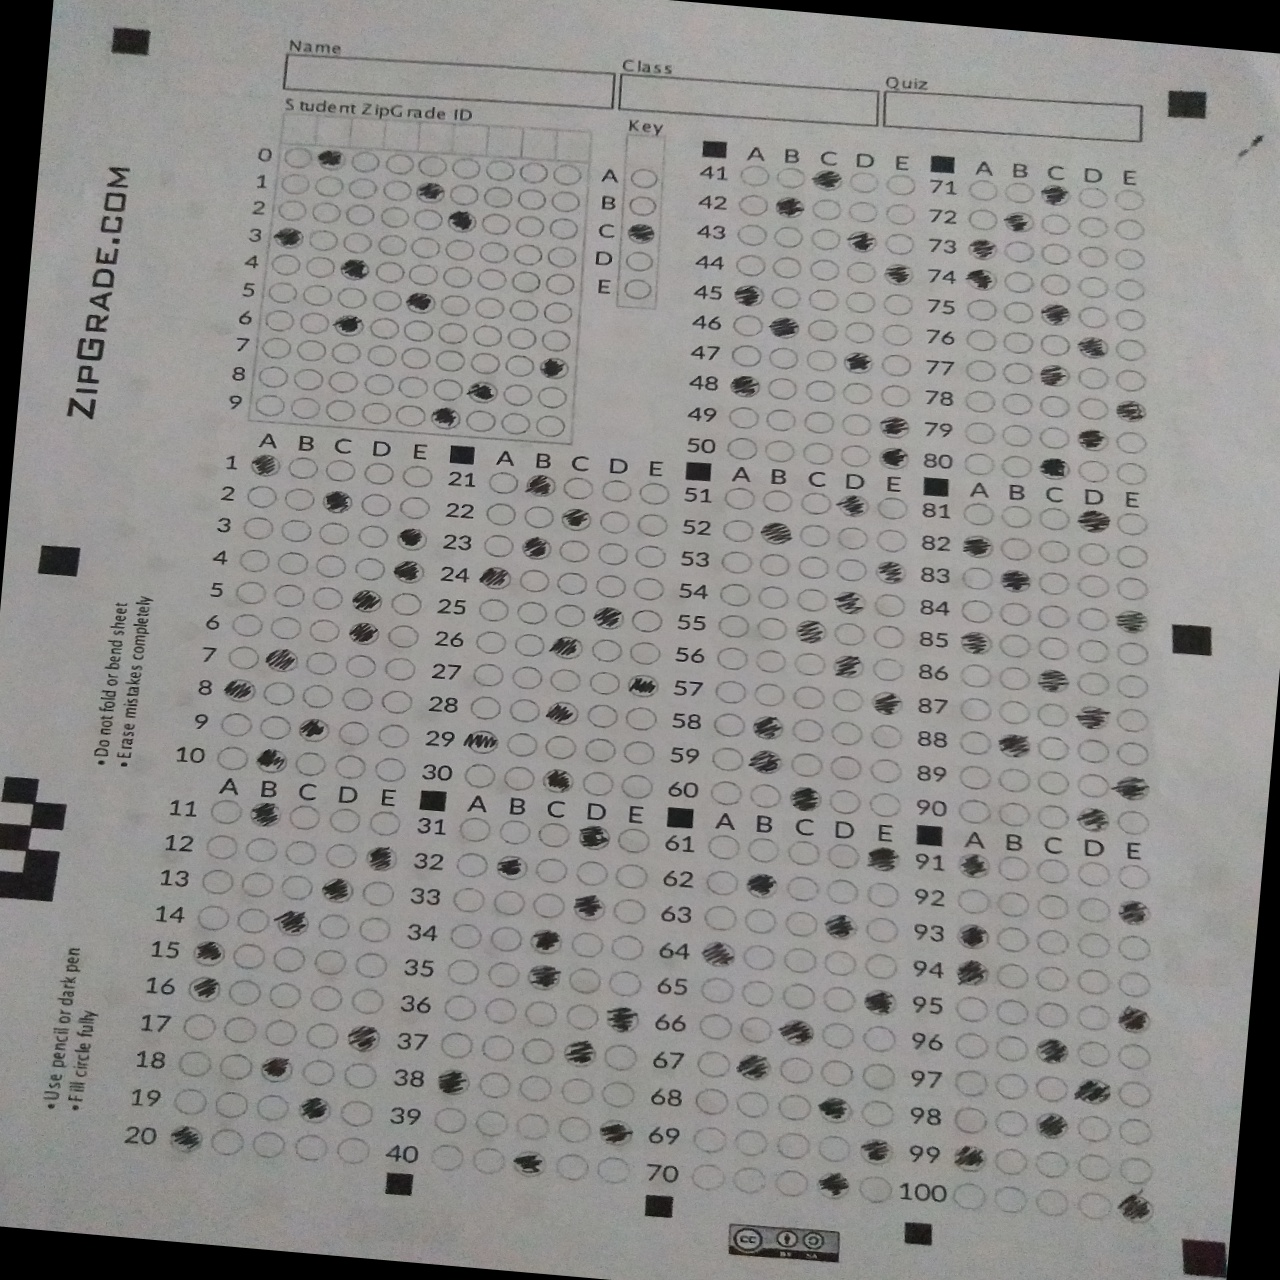not-c: (951, 563, 995, 595), (173, 1047, 218, 1080), (685, 1122, 729, 1155), (817, 1019, 862, 1051), (813, 1132, 859, 1164), (733, 1014, 778, 1046), (951, 659, 994, 692), (1032, 801, 1075, 833), (552, 1114, 595, 1146), (568, 931, 612, 964), (696, 903, 740, 935), (951, 595, 995, 627), (951, 762, 995, 794), (177, 1008, 222, 1040), (190, 903, 234, 934), (198, 830, 243, 862), (205, 796, 250, 828), (442, 920, 486, 952), (599, 1041, 644, 1073), (595, 1078, 640, 1110), (549, 1151, 593, 1183), (572, 859, 617, 891), (605, 969, 649, 1001), (692, 1010, 736, 1042), (816, 1056, 860, 1088), (783, 837, 828, 869), (779, 907, 824, 939), (781, 872, 825, 904), (741, 905, 785, 937), (738, 942, 783, 974), (731, 980, 776, 1012), (728, 1089, 772, 1121), (554, 1076, 600, 1107), (610, 899, 655, 930), (771, 1131, 817, 1162), (779, 947, 825, 978), (1071, 1037, 1114, 1070), (948, 727, 992, 758), (948, 796, 992, 828), (1069, 769, 1112, 801), (195, 865, 238, 897), (205, 1128, 248, 1159), (222, 1013, 265, 1044), (470, 1107, 513, 1138), (595, 1155, 639, 1186), (615, 862, 659, 893), (690, 1049, 734, 1081), (695, 869, 738, 900), (771, 1090, 815, 1122), (743, 837, 787, 869), (1069, 735, 1114, 765), (231, 906, 275, 937), (237, 835, 281, 865), (245, 1130, 290, 1160), (474, 1070, 518, 1101), (447, 887, 491, 918), (563, 967, 607, 998), (610, 933, 654, 964), (613, 825, 658, 856), (726, 1126, 770, 1157), (775, 1055, 819, 1085), (777, 983, 822, 1014), (1114, 1115, 1155, 1148), (1074, 1001, 1115, 1034), (1114, 863, 1155, 896), (949, 692, 992, 723), (321, 840, 363, 872), (271, 944, 313, 975), (333, 1136, 375, 1167), (520, 998, 563, 1029), (1073, 1110, 1115, 1142), (1030, 1073, 1073, 1104), (1114, 1041, 1156, 1073), (1117, 1078, 1159, 1110), (990, 798, 1034, 829), (166, 1085, 210, 1116), (532, 857, 576, 887), (223, 976, 266, 1007), (311, 911, 354, 941), (312, 947, 355, 978), (306, 983, 349, 1014), (248, 1092, 292, 1123), (258, 1017, 301, 1048), (264, 981, 307, 1012), (273, 874, 316, 905), (282, 801, 326, 831), (334, 1097, 377, 1128), (338, 1061, 381, 1091), (348, 987, 392, 1017), (477, 994, 520, 1024), (366, 809, 409, 839), (527, 892, 571, 922), (477, 1034, 520, 1064), (484, 922, 527, 953), (454, 813, 497, 844), (560, 1005, 604, 1035), (685, 1084, 728, 1115), (692, 974, 735, 1005), (704, 833, 748, 864), (1032, 1150, 1073, 1182), (1032, 964, 1073, 995), (1074, 966, 1115, 998), (1073, 897, 1114, 928), (787, 749, 829, 779), (703, 742, 745, 772), (579, 733, 621, 763), (233, 870, 275, 900), (229, 942, 271, 973), (297, 1021, 339, 1051), (279, 837, 321, 867), (438, 993, 481, 1023), (350, 949, 393, 980), (356, 878, 399, 908), (515, 1074, 557, 1104), (485, 890, 527, 920), (495, 817, 537, 847), (452, 849, 495, 879), (953, 499, 996, 529), (309, 583, 353, 612), (457, 761, 501, 790), (290, 1133, 333, 1163), (434, 1030, 477, 1060), (425, 1145, 469, 1175), (717, 482, 758, 512), (636, 511, 678, 542), (635, 544, 676, 574), (554, 568, 595, 599), (324, 804, 365, 835), (440, 956, 481, 987), (481, 960, 522, 990), (1032, 930, 1073, 960), (1071, 1152, 1112, 1183), (1037, 1001, 1078, 1032), (1115, 1153, 1156, 1184), (1073, 930, 1114, 960), (1073, 860, 1114, 891), (1115, 934, 1156, 965), (1114, 971, 1155, 1001), (1036, 568, 1078, 598), (993, 696, 1035, 726), (994, 535, 1036, 564), (1033, 538, 1075, 567), (796, 522, 838, 551), (716, 515, 758, 544), (830, 556, 872, 585), (341, 652, 383, 681), (374, 723, 416, 753), (361, 461, 403, 490), (305, 617, 347, 646), (311, 553, 353, 583), (259, 678, 301, 707), (209, 743, 251, 772), (499, 729, 542, 758), (472, 530, 515, 559), (211, 1091, 253, 1121), (215, 1051, 257, 1081), (297, 1058, 339, 1088), (428, 1107, 470, 1136), (515, 1036, 557, 1065), (512, 1112, 554, 1142), (467, 1145, 509, 1175), (536, 821, 578, 850), (862, 915, 901, 946), (686, 1160, 726, 1191), (990, 1185, 1030, 1216), (1033, 857, 1073, 887), (872, 592, 913, 621), (993, 765, 1034, 795), (996, 629, 1037, 659), (792, 585, 833, 614), (795, 552, 836, 581), (798, 489, 839, 518), (758, 488, 799, 517), (704, 712, 745, 741), (712, 644, 753, 673), (835, 525, 876, 554), (828, 719, 869, 748), (867, 721, 908, 750), (372, 755, 413, 784), (396, 495, 437, 524), (356, 489, 397, 518), (291, 749, 332, 778), (279, 517, 320, 546), (225, 578, 266, 607), (498, 764, 539, 794), (629, 607, 670, 636), (578, 770, 619, 799), (553, 538, 594, 567), (990, 1073, 1032, 1102), (870, 529, 912, 557), (1036, 634, 1078, 662), (1073, 667, 1115, 695), (1033, 769, 1075, 797), (993, 663, 1035, 692), (993, 599, 1035, 627), (1033, 601, 1075, 629), (829, 621, 871, 649), (789, 717, 831, 745), (755, 551, 797, 579), (709, 678, 751, 706), (713, 549, 755, 577), (869, 656, 911, 685), (826, 788, 869, 816), (331, 753, 373, 781), (386, 621, 428, 649), (353, 520, 395, 549), (403, 463, 445, 491), (272, 550, 314, 578), (215, 712, 257, 740), (239, 516, 281, 544), (545, 663, 587, 692), (506, 629, 549, 658), (509, 598, 551, 626), (598, 478, 640, 506), (518, 503, 560, 531), (627, 640, 669, 668), (631, 574, 673, 602), (1075, 1191, 1114, 1221), (1033, 892, 1071, 922), (992, 1108, 1030, 1138), (993, 1034, 1032, 1064), (481, 468, 520, 497), (1032, 1189, 1071, 1218), (994, 855, 1034, 884), (869, 622, 910, 651), (870, 496, 911, 524), (1034, 702, 1075, 730), (1033, 733, 1074, 761), (791, 683, 832, 712), (787, 651, 828, 679), (753, 585, 794, 613), (750, 647, 791, 675), (748, 680, 789, 708), (745, 779, 787, 808), (702, 778, 743, 806), (710, 610, 751, 638), (715, 579, 756, 607), (829, 686, 870, 714), (828, 754, 869, 782), (336, 719, 377, 747), (380, 688, 421, 716), (383, 656, 424, 685), (353, 554, 394, 583), (384, 590, 425, 618), (302, 648, 343, 676), (316, 520, 358, 549), (322, 456, 363, 484), (278, 486, 319, 515), (279, 456, 320, 484), (268, 584, 309, 612), (266, 615, 307, 644), (256, 715, 297, 743), (218, 644, 259, 672), (226, 612, 267, 640), (232, 547, 273, 576), (238, 483, 279, 511), (339, 686, 380, 714), (542, 733, 583, 761), (504, 695, 545, 723), (509, 663, 550, 692), (515, 567, 556, 595), (633, 481, 674, 509), (561, 476, 602, 504), (465, 661, 506, 689), (467, 629, 508, 658), (469, 597, 510, 625), (481, 501, 522, 529), (587, 638, 628, 666), (586, 670, 627, 699), (621, 775, 662, 803), (627, 703, 668, 731), (595, 542, 636, 570), (583, 701, 624, 729), (549, 601, 590, 629), (826, 877, 864, 907), (860, 1062, 898, 1092), (995, 998, 1033, 1028), (1074, 636, 1116, 663), (300, 685, 342, 712), (618, 738, 660, 765), (821, 985, 859, 1014), (862, 952, 900, 981), (860, 881, 899, 911), (859, 1099, 898, 1129), (856, 1173, 894, 1203), (952, 1105, 990, 1135), (955, 886, 994, 915), (993, 961, 1032, 990), (992, 924, 1030, 953), (993, 890, 1032, 919), (869, 756, 908, 784), (869, 791, 908, 819), (821, 949, 860, 978), (751, 617, 792, 644), (465, 692, 506, 719), (592, 576, 633, 602), (595, 508, 636, 535), (825, 843, 863, 872), (730, 1166, 768, 1196), (771, 1167, 809, 1197), (949, 1182, 987, 1211), (953, 1067, 990, 1096), (953, 1032, 990, 1061), (994, 1148, 1032, 1177), (952, 996, 990, 1024), (859, 1023, 897, 1051), (358, 914, 393, 944), (467, 350, 504, 377), (1075, 304, 1112, 331), (347, 149, 383, 176), (309, 173, 346, 200), (375, 203, 411, 230), (341, 202, 377, 229), (311, 173, 347, 200), (367, 287, 403, 314), (408, 234, 444, 261), (461, 408, 497, 435), (429, 377, 465, 404), (399, 316, 435, 343), (358, 399, 394, 425), (510, 268, 546, 295), (510, 241, 546, 268), (799, 409, 836, 436), (802, 377, 838, 404), (804, 316, 840, 343), (809, 225, 845, 252), (809, 197, 845, 224), (731, 222, 768, 248), (625, 165, 661, 192), (617, 277, 653, 304), (1001, 270, 1037, 297), (1039, 241, 1075, 268), (1036, 392, 1073, 418), (1115, 429, 1151, 456), (392, 402, 429, 428), (1074, 574, 1111, 600), (546, 215, 581, 241), (256, 365, 291, 392), (295, 311, 331, 338), (445, 181, 481, 207), (533, 413, 568, 440), (998, 503, 1033, 530), (839, 411, 874, 438), (964, 358, 999, 384), (1078, 365, 1114, 392), (1114, 459, 1149, 486), (1114, 338, 1149, 365), (1114, 275, 1149, 302), (1112, 244, 1148, 271), (1114, 216, 1149, 243), (1112, 576, 1148, 602), (515, 159, 551, 185), (382, 151, 418, 177), (280, 144, 316, 170), (549, 162, 585, 188), (274, 172, 311, 198), (252, 392, 288, 417), (301, 282, 338, 308), (260, 336, 297, 362), (260, 309, 297, 335), (264, 279, 300, 305), (267, 251, 304, 277), (306, 199, 342, 225), (271, 197, 307, 223), (373, 232, 409, 258), (325, 370, 361, 396), (333, 285, 369, 311), (324, 397, 360, 423), (290, 367, 326, 393), (293, 339, 329, 365), (299, 282, 335, 308), (441, 266, 477, 292), (476, 240, 512, 266), (482, 186, 518, 212), (441, 238, 477, 264), (406, 263, 442, 288), (502, 354, 538, 380), (505, 326, 542, 352), (539, 327, 576, 353), (537, 299, 573, 325), (508, 297, 544, 322), (469, 325, 505, 350), (470, 295, 506, 321), (435, 320, 471, 346), (437, 293, 474, 319), (400, 343, 436, 369), (394, 373, 430, 399), (359, 372, 395, 397), (365, 341, 401, 367), (366, 315, 402, 341), (542, 271, 578, 297), (549, 191, 585, 217), (512, 188, 549, 213), (474, 268, 510, 294), (537, 384, 573, 410), (496, 410, 532, 436), (881, 232, 918, 258), (842, 291, 878, 316), (878, 353, 914, 379), (877, 383, 913, 409), (838, 444, 874, 470), (798, 438, 835, 464), (838, 380, 874, 406), (803, 348, 839, 374), (774, 165, 810, 191), (767, 225, 803, 251), (769, 256, 805, 281), (769, 286, 805, 312), (765, 346, 802, 372), (763, 437, 799, 463), (728, 343, 764, 369), (729, 312, 765, 338), (731, 252, 768, 278), (735, 192, 771, 218), (624, 193, 660, 219), (619, 248, 655, 274), (998, 360, 1034, 386), (998, 331, 1034, 356), (1002, 239, 1039, 265), (961, 450, 998, 476), (960, 420, 996, 445), (961, 389, 998, 415), (964, 298, 1000, 324), (844, 199, 880, 225), (883, 203, 919, 229), (1076, 245, 1112, 271), (1035, 332, 1071, 358), (1034, 424, 1070, 450), (1075, 395, 1111, 421), (1110, 186, 1146, 212), (1035, 506, 1071, 532), (1115, 512, 1151, 538), (1000, 181, 1036, 206), (1040, 210, 1076, 236), (1075, 542, 1111, 567), (1117, 810, 1153, 836), (1114, 742, 1150, 768), (1117, 709, 1153, 735), (1076, 607, 1112, 633), (449, 155, 484, 181), (415, 154, 450, 179), (501, 382, 536, 408), (302, 253, 338, 279), (329, 340, 365, 366), (478, 212, 513, 238), (433, 348, 468, 374), (880, 292, 915, 318), (839, 319, 874, 345), (806, 287, 842, 313), (806, 258, 842, 284), (764, 407, 799, 433), (724, 437, 760, 463), (726, 404, 761, 430), (738, 163, 774, 189), (998, 301, 1033, 327), (965, 326, 1000, 352), (964, 207, 999, 233), (968, 177, 1003, 203), (885, 173, 920, 199), (1077, 216, 1112, 241), (1076, 274, 1111, 300), (1074, 457, 1109, 483), (1114, 367, 1149, 393), (1114, 306, 1149, 332), (1119, 639, 1155, 665), (1112, 672, 1148, 697), (1112, 544, 1148, 570), (513, 213, 549, 239), (307, 229, 343, 253), (287, 397, 324, 422), (373, 260, 409, 285), (546, 245, 583, 270), (998, 424, 1034, 449), (999, 392, 1035, 416), (849, 170, 885, 195), (1076, 185, 1112, 210), (881, 324, 915, 349), (765, 375, 799, 401), (998, 454, 1032, 479), (1039, 272, 1073, 298), (411, 207, 445, 233), (482, 157, 517, 182), (377, 177, 413, 202), (343, 176, 379, 200), (341, 231, 376, 256), (844, 260, 879, 285)
taken-c: (812, 1094, 857, 1126), (522, 925, 567, 956), (952, 850, 998, 881), (738, 870, 784, 901), (241, 797, 287, 829), (816, 911, 862, 942), (775, 1016, 821, 1048), (696, 938, 740, 971), (253, 1053, 297, 1085), (949, 956, 993, 989), (948, 1141, 992, 1173), (811, 1169, 855, 1201), (293, 714, 338, 745), (291, 1094, 335, 1125), (271, 908, 315, 940), (181, 973, 225, 1005), (188, 937, 232, 968), (359, 843, 403, 874), (490, 850, 535, 881), (1071, 1075, 1116, 1107), (856, 986, 900, 1017), (591, 1116, 635, 1148), (825, 651, 870, 682), (993, 730, 1037, 762), (952, 921, 998, 952), (1114, 1193, 1159, 1224), (863, 687, 908, 717), (568, 894, 612, 926), (430, 1065, 474, 1097), (600, 1005, 644, 1036), (164, 1122, 207, 1153), (314, 874, 358, 906), (860, 844, 904, 876), (1029, 1109, 1073, 1141), (855, 1136, 898, 1167), (508, 1148, 551, 1179), (587, 602, 631, 634), (260, 644, 304, 675), (1032, 663, 1075, 695), (1070, 702, 1114, 734), (557, 1036, 601, 1067), (340, 1022, 384, 1053), (1110, 1003, 1155, 1034), (1032, 1035, 1076, 1065), (730, 1051, 775, 1082), (1109, 606, 1153, 636), (1073, 804, 1117, 835), (536, 764, 581, 794), (745, 713, 788, 744), (218, 675, 261, 706), (539, 695, 583, 726), (787, 784, 830, 815), (519, 960, 563, 990), (388, 523, 431, 553), (388, 556, 431, 586), (1112, 896, 1156, 926), (568, 821, 613, 850), (546, 632, 588, 662), (955, 531, 998, 561), (743, 745, 787, 775), (248, 745, 292, 775), (954, 629, 998, 659), (1109, 772, 1152, 802), (1034, 298, 1075, 328), (459, 726, 502, 755), (1073, 506, 1115, 536), (1034, 361, 1076, 390), (622, 670, 662, 701), (832, 491, 873, 520), (554, 504, 595, 533), (756, 519, 797, 549), (316, 486, 358, 516), (267, 224, 308, 253), (876, 259, 917, 288), (1032, 452, 1074, 481), (995, 567, 1037, 595), (870, 558, 912, 586), (828, 588, 870, 617), (768, 193, 810, 222), (476, 563, 515, 593), (515, 533, 556, 561), (520, 472, 561, 501), (241, 451, 282, 479), (961, 234, 1002, 263), (959, 266, 1000, 294), (1073, 334, 1114, 362), (1109, 396, 1150, 424), (1071, 425, 1112, 454), (840, 226, 881, 254), (1032, 181, 1073, 209), (996, 209, 1037, 237), (788, 617, 830, 644), (343, 618, 383, 646), (727, 281, 767, 309), (409, 178, 450, 205), (441, 207, 481, 234), (874, 415, 911, 444), (726, 373, 762, 402), (347, 587, 384, 615), (328, 311, 366, 339), (808, 166, 845, 195), (401, 290, 440, 316), (763, 314, 802, 341), (621, 222, 660, 248), (874, 443, 911, 471), (463, 379, 499, 407), (840, 349, 878, 376), (532, 355, 570, 381), (336, 256, 372, 282), (427, 406, 463, 431), (313, 147, 347, 170)
